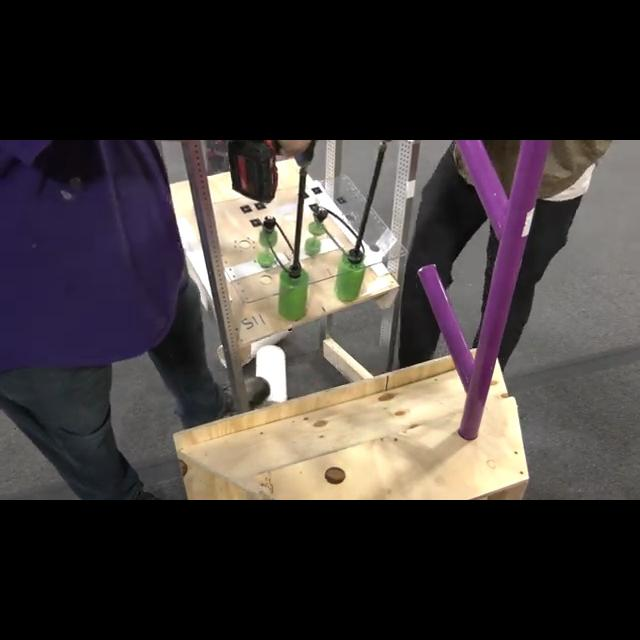CORAL: (256, 346, 288, 404)
